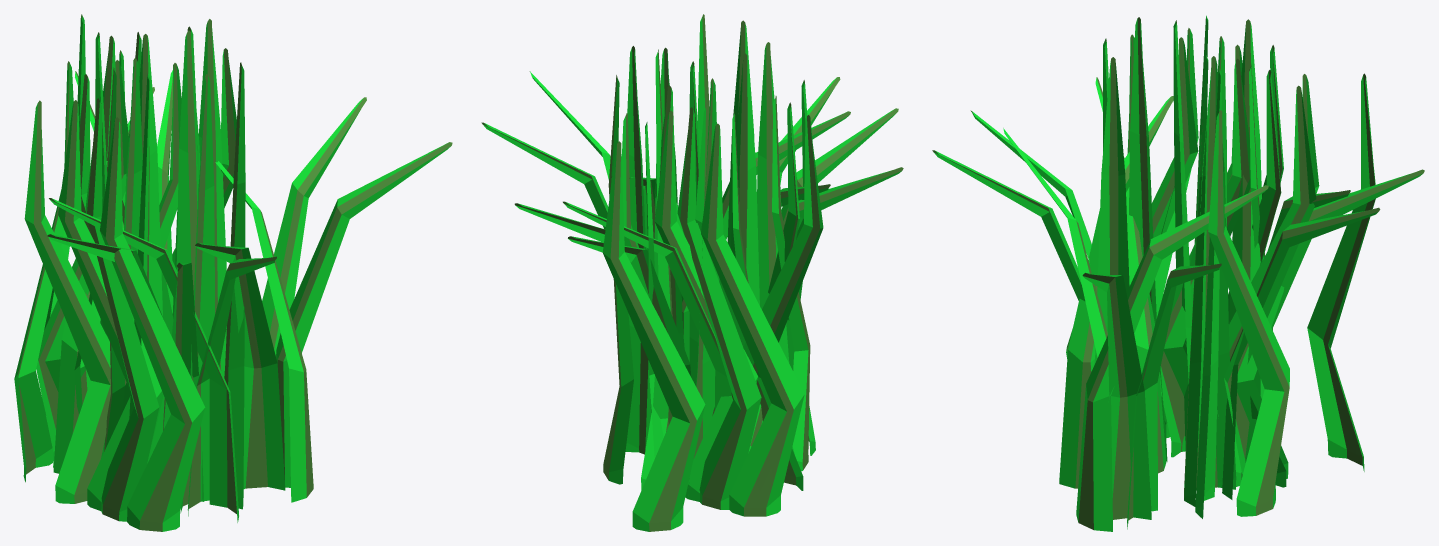
Rendered from grass_patch.fbx.
3 renders of one model, left to right at view 1: azimuth 30°, elevation 25°; view 2: azimuth 150°, elevation 25°; view 3: azimuth 270°, elevation 25°, orthographic. The views are drawn at different scales.
Parts seen in each view (by area): view 1: grass_patch; view 2: grass_patch; view 3: grass_patch.
Part boxes in pixels (left/top/right/bottom): grass_patch: left=14, top=14, right=452, bottom=531; grass_patch: left=481, top=14, right=903, bottom=531; grass_patch: left=932, top=15, right=1424, bottom=531.
Bounding box in the file's own units: 3761 × 3928 × 3969.
